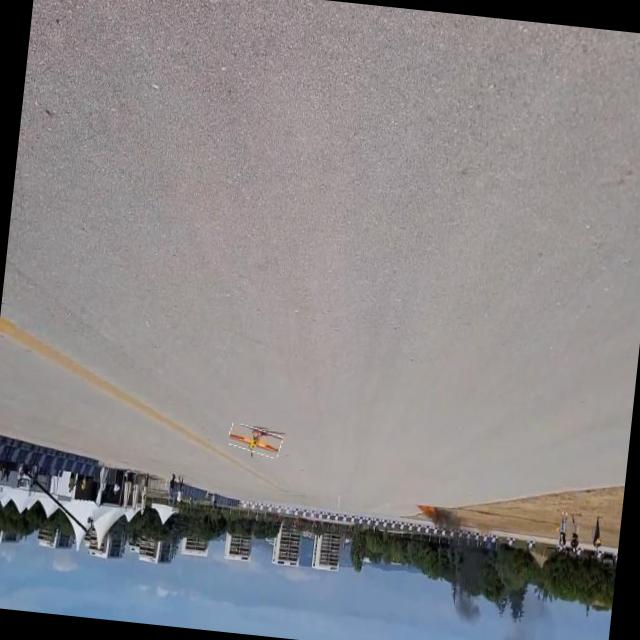UAV: (228, 414, 300, 476)
